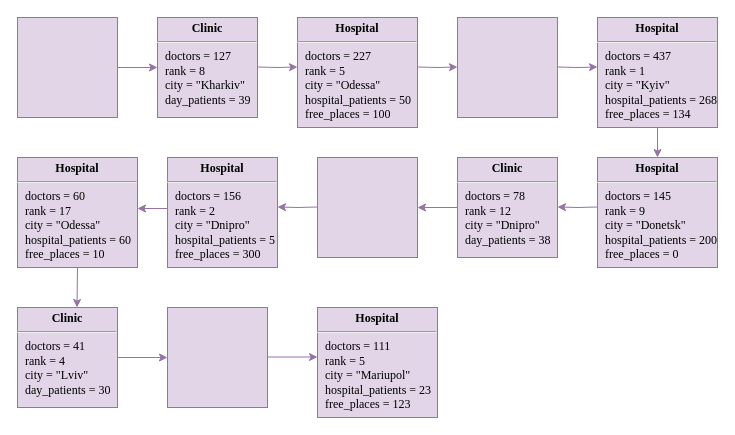
This 735x435 diagram has some shape labels left out. The centre of each missing label's shape, as x and y in pixels:
Clinic doctors = 189 rank = 2 city = "Kyiv" day_patients = 112: point 67,67
Clinic doctors = 34 rank = 15 city = "Dnipro" day_patients = 15: point 507,67
Clinic doctors = 45 rank = 7 city = "Kyiv" day_patients = 89: point 367,207
Clinic doctors = 90 rank = 8 city = "Kharkiv" day_patients = 77: point 217,357
